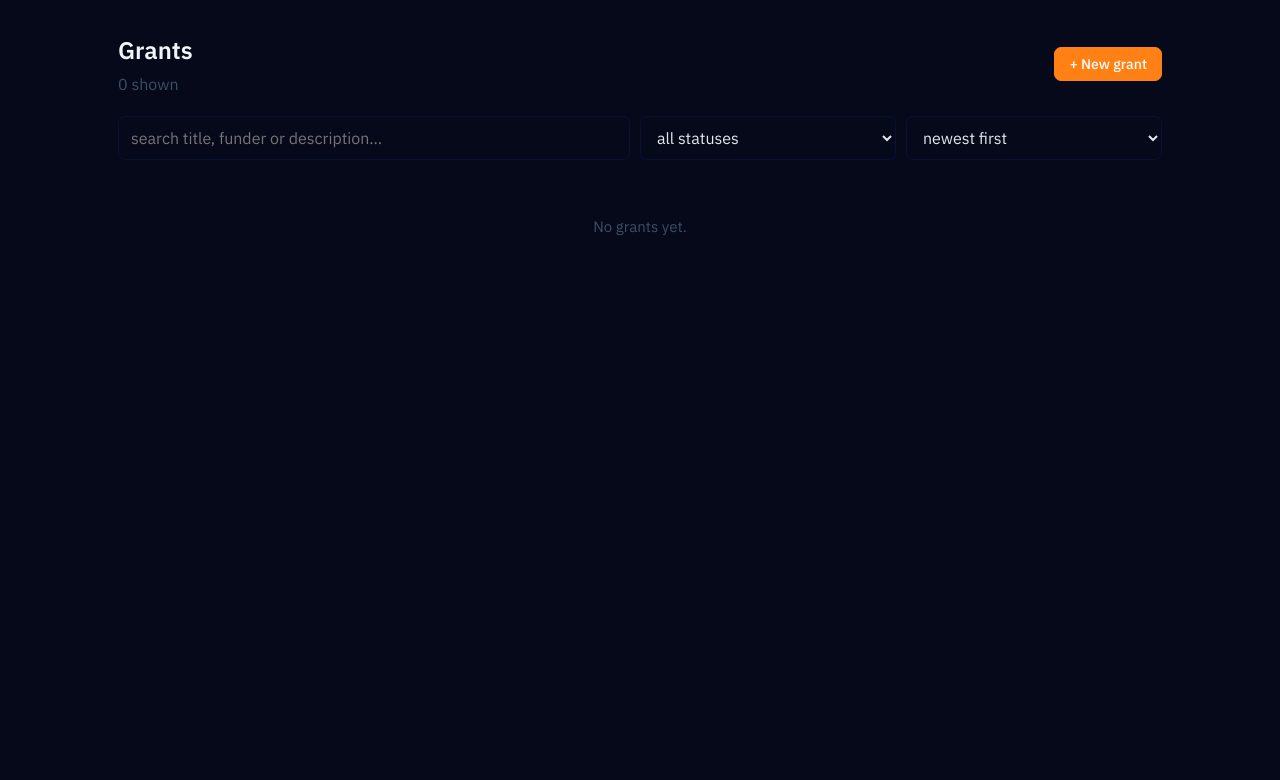
Test: GrantsPage › create form reveals the full grant fields on + New grant
The image size is (1280, 780).
Step 1. Click the button "+ New grant" → (1108, 64), box [1054, 47, 1162, 81]
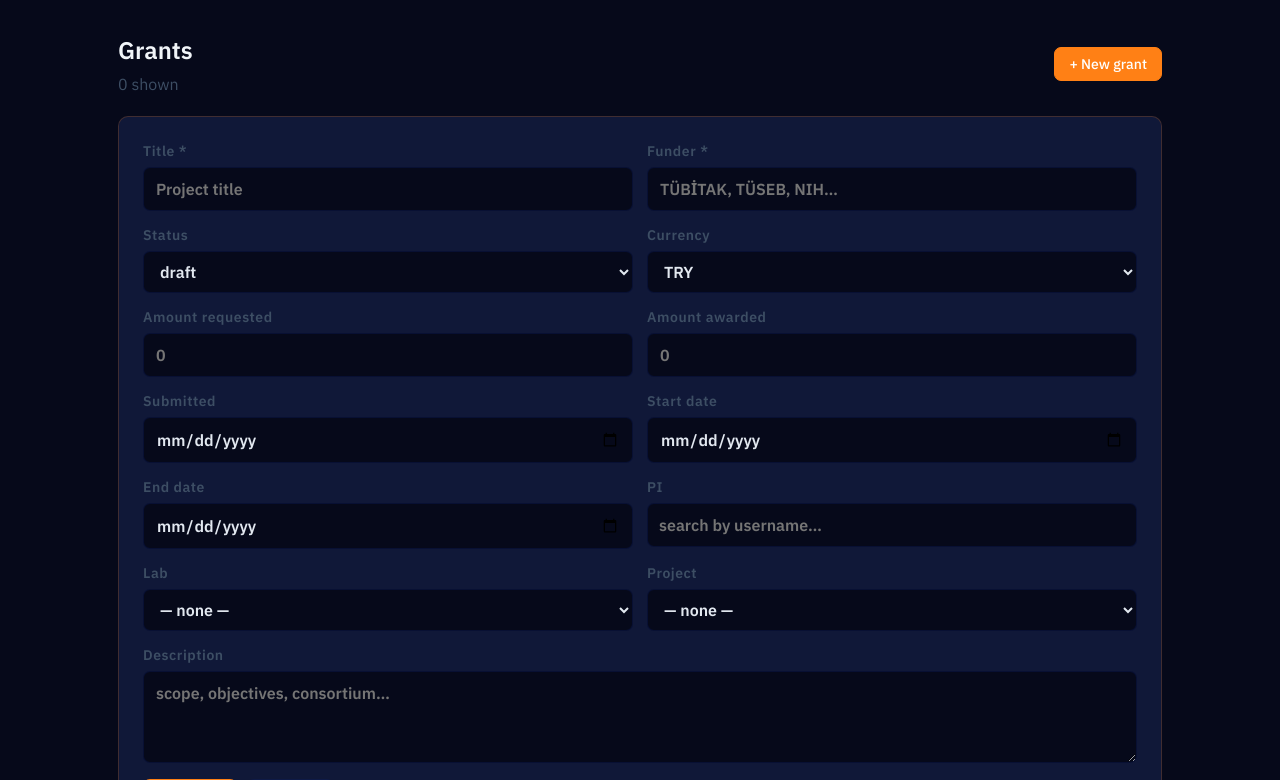
Result: the field with placeholder "Project title" is shown at [143, 167, 633, 211]
Result: the field with placeholder "TÜBİTAK, TÜSEB, NIH…" is shown at [647, 167, 1137, 211]
Result: the text "Amount requested" is shown at [143, 307, 633, 377]
